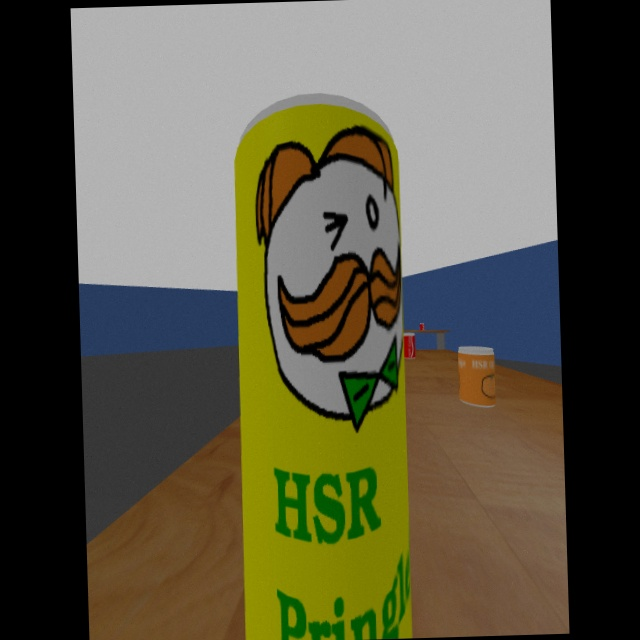chipsdose_gelb: (233, 92, 413, 640)
